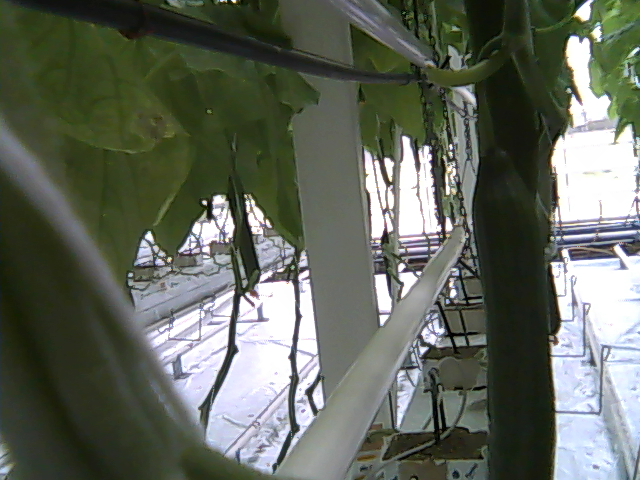concombre: (473, 141, 564, 480), (465, 1, 542, 195)
